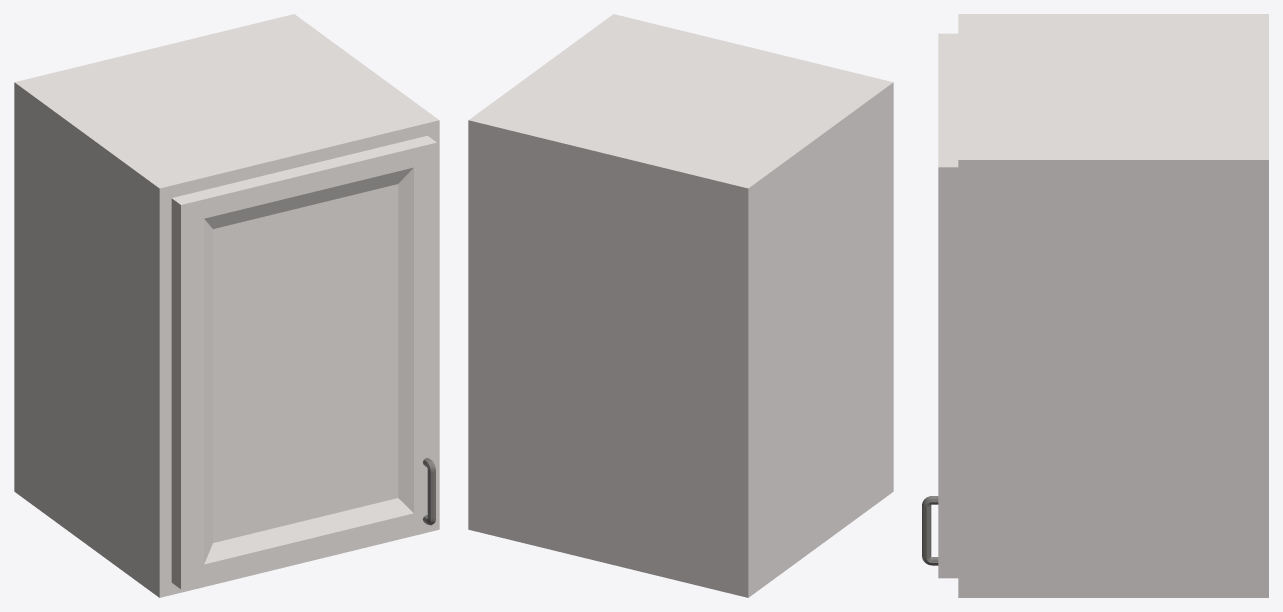
The model's file is Kitchen Tabletop_10.fbx.
The picture shows the model from 3 angles, left to right: view 1: azimuth 30°, elevation 25°; view 2: azimuth 150°, elevation 25°; view 3: azimuth 270°, elevation 25°; orthographic projection. The views are drawn at different scales.
Parts seen in each view (by area): view 1: Kitchen Tabletop_10; view 2: Kitchen Tabletop_10; view 3: Kitchen Tabletop_10.
Part boxes in pixels (box(x1,y1,x2,y2)): Kitchen Tabletop_10: box(14, 14, 439, 597); Kitchen Tabletop_10: box(468, 14, 893, 597); Kitchen Tabletop_10: box(922, 14, 1268, 597).
Size of the model in its own units: 42.95 by 60.04 by 43.1.
